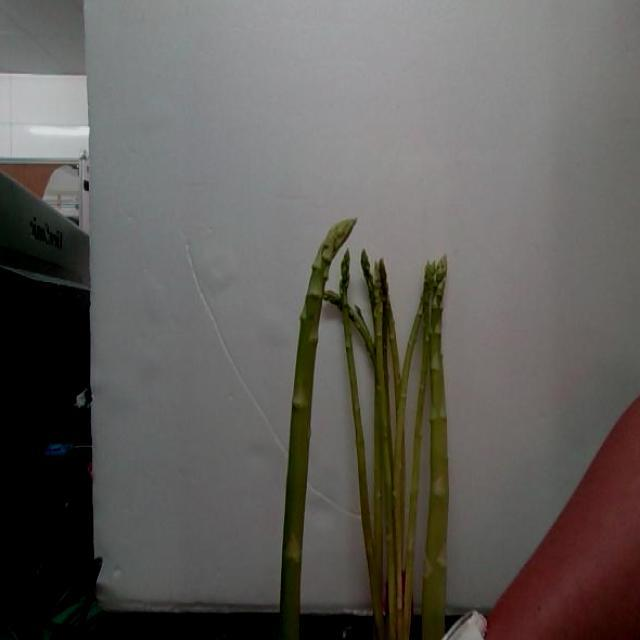aspargus: (280, 219, 357, 640)
